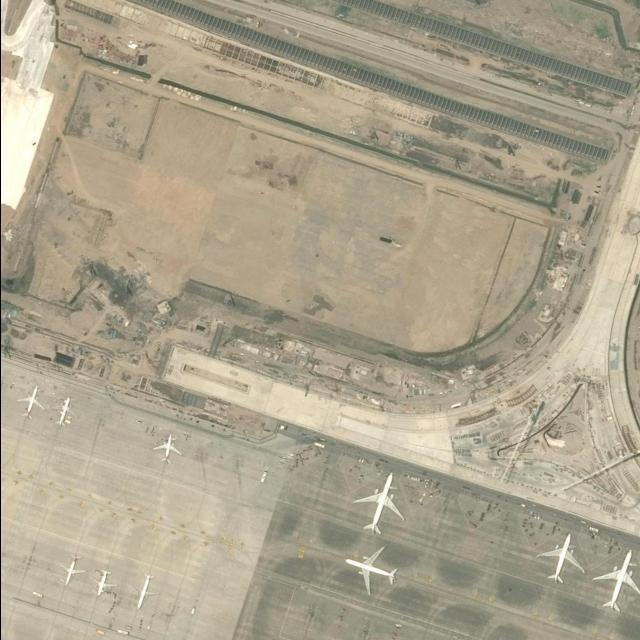Aircraft: (355, 469, 406, 535), (592, 550, 640, 614), (344, 545, 398, 596), (536, 535, 585, 588), (132, 572, 160, 614), (54, 392, 78, 432), (152, 434, 180, 466), (59, 554, 85, 588), (91, 568, 117, 600), (18, 386, 42, 420)
